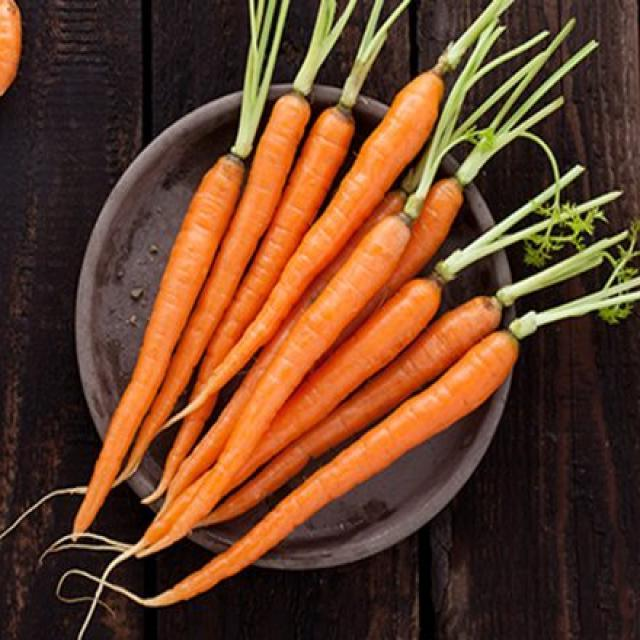carrot: (120, 319, 526, 622), (151, 49, 452, 428), (137, 189, 425, 558), (143, 95, 359, 516)
